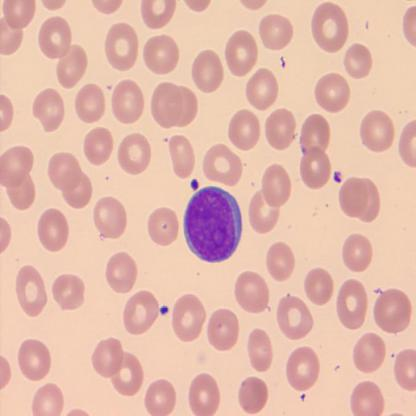Blast: (180, 184, 244, 264)
